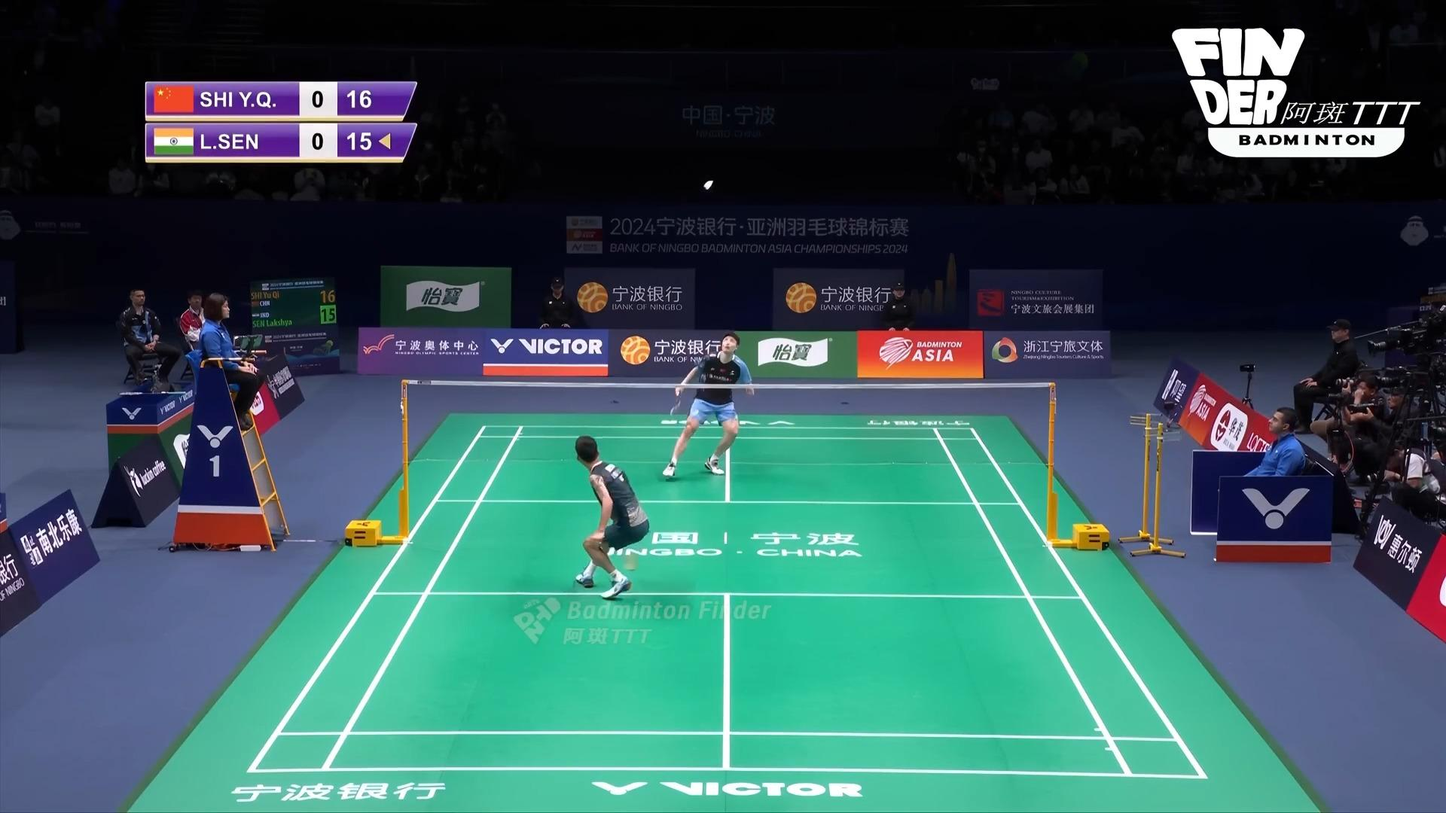player: (661, 333, 755, 480), (572, 436, 648, 600)
shuttlecock: (703, 178, 715, 191)
